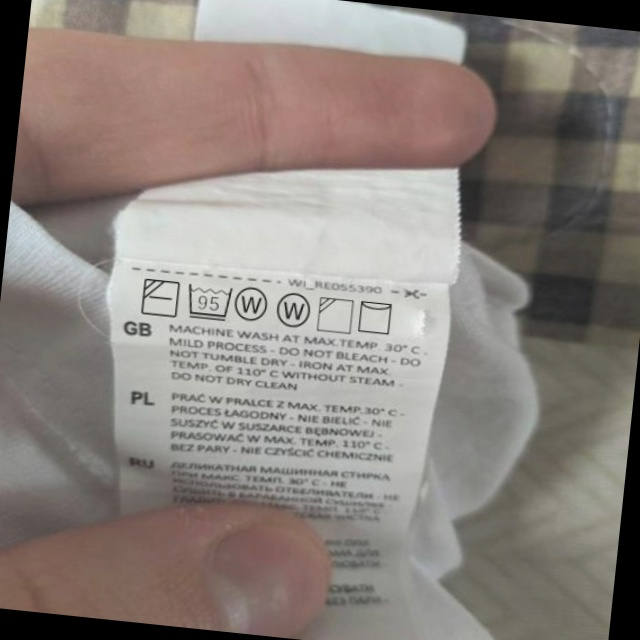95C: (183, 280, 235, 323)
dry_flat_in_shade: (138, 274, 182, 320)
line_dry: (355, 296, 397, 338)
shade_dry: (315, 294, 357, 336)
wet_clean: (274, 289, 314, 332), (233, 281, 272, 325)
